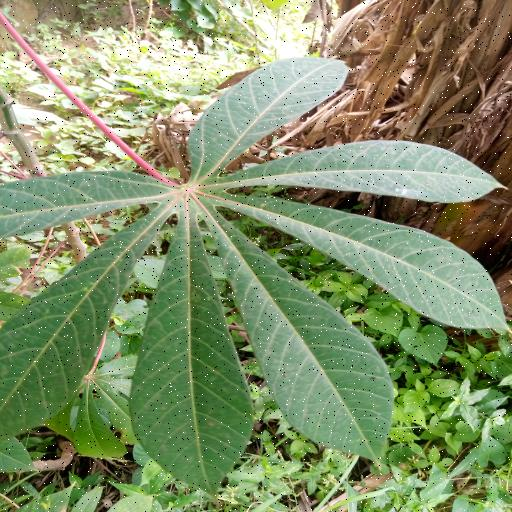Cassava_Healthy: (5, 50, 505, 492)
